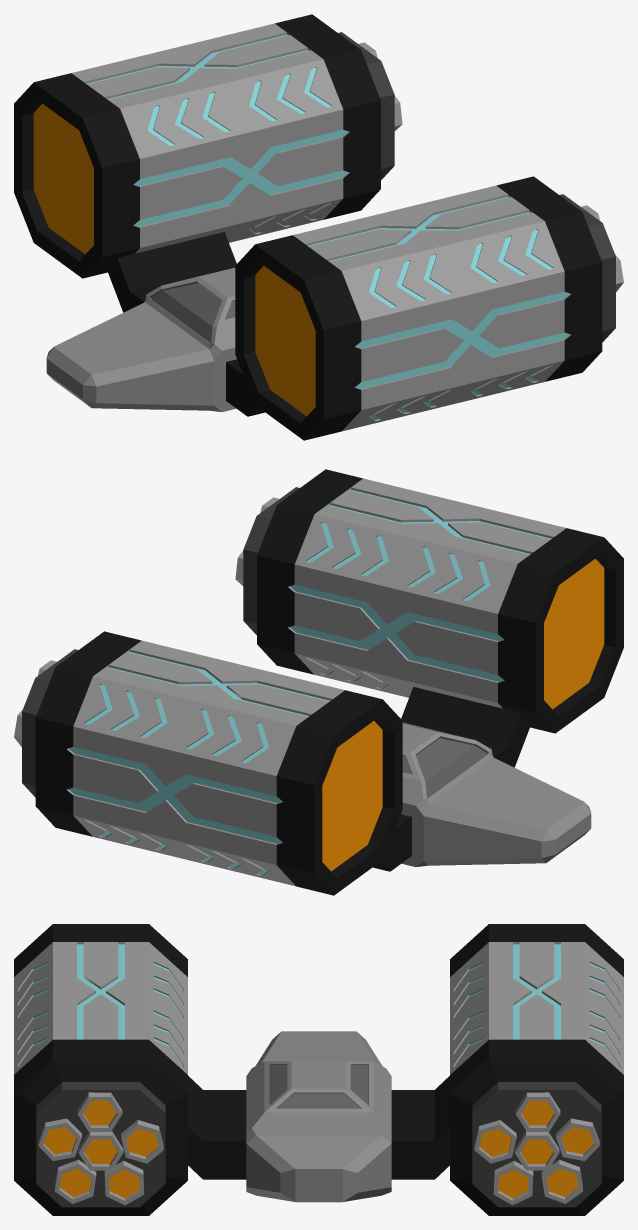
File: ReadyShip.fbx
3 renders of one model, top to bottom at view 1: azimuth 30°, elevation 25°; view 2: azimuth 150°, elevation 25°; view 3: azimuth 270°, elevation 25°, orthographic.
Parts seen in each view (by area): view 1: Body; view 2: Body; view 3: Body.
Boxes of the visible parts, left/top/right/bottom form: Body: left=14, top=14, right=623, bottom=440; Body: left=14, top=469, right=623, bottom=895; Body: left=14, top=924, right=623, bottom=1215.
Bounding box in the file's own units: 776 × 370 × 999.
